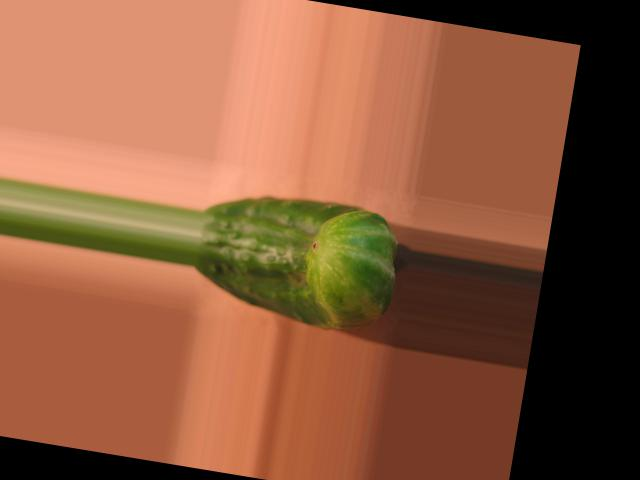cucumber: (187, 181, 404, 337)
